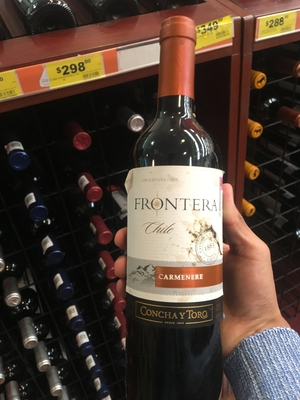frontera carmenere: (112, 22, 225, 400)
